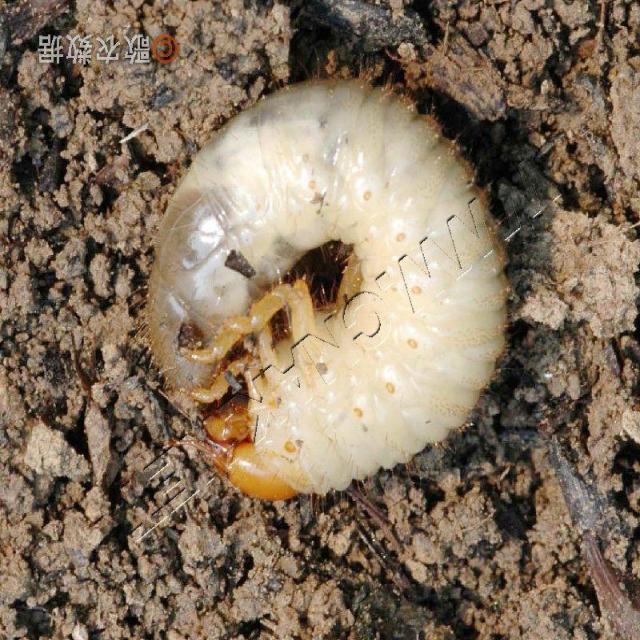grub: (126, 74, 522, 511)
